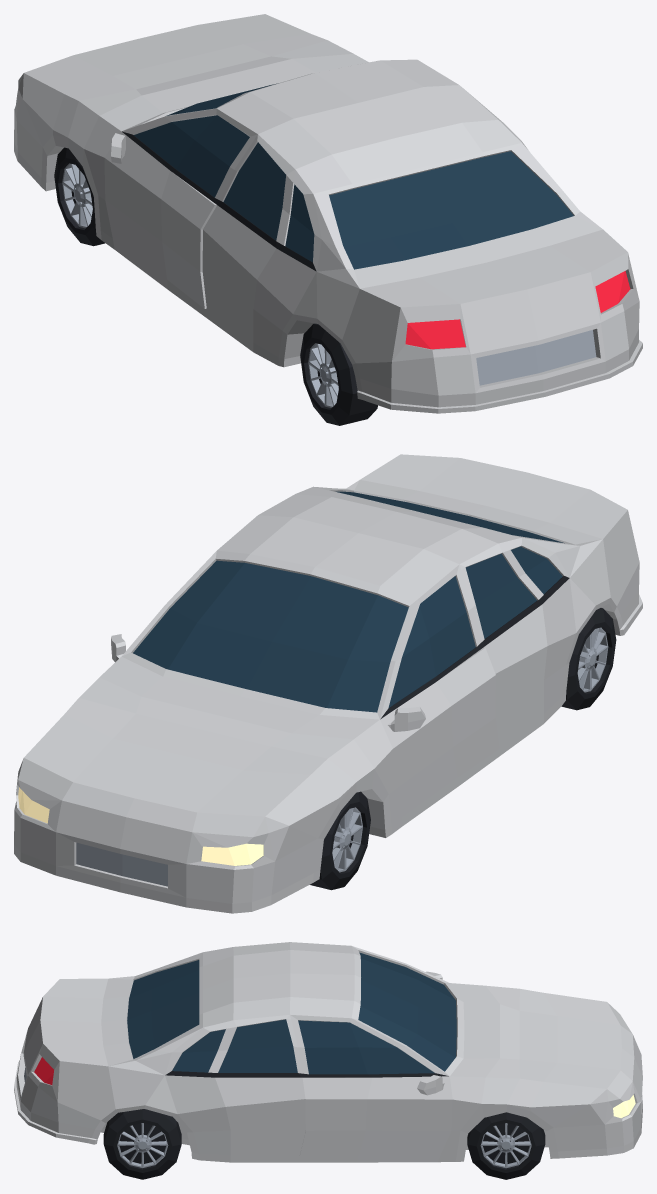
Rendered from sedan.glb.
3 views of the same model, one above another, from view 1: azimuth 30°, elevation 25°; view 2: azimuth 150°, elevation 25°; view 3: azimuth 270°, elevation 25° (orthographic). The views are drawn at different scales.
Visible parts, largest first — view 1: NormalCar1_Cube.012 (×5), NormalCar1_BackWheels_Cube.011 (×2), NormalCar1_FrontLeftWheel_Cube.007 (×2); view 2: NormalCar1_Cube.012 (×5), NormalCar1_BackWheels_Cube.011 (×2), NormalCar1_FrontLeftWheel_Cube.007 (×2); view 3: NormalCar1_Cube.012 (×3), NormalCar1_BackWheels_Cube.011 (×2), NormalCar1_FrontRightWheel_Cube.008 (×2).
Part boxes in pixels (x1=…): NormalCar1_Cube.012 (×5): x1=14, y1=14, x2=642, y2=413; NormalCar1_BackWheels_Cube.011 (×2): x1=300, y1=323, x2=377, y2=425; NormalCar1_FrontLeftWheel_Cube.007 (×2): x1=54, y1=147, x2=104, y2=246; NormalCar1_Cube.012 (×5): x1=14, y1=454, x2=642, y2=913; NormalCar1_BackWheels_Cube.011 (×2): x1=561, y1=608, x2=616, y2=710; NormalCar1_FrontLeftWheel_Cube.007 (×2): x1=310, y1=791, x2=370, y2=890; NormalCar1_Cube.012 (×3): x1=14, y1=942, x2=642, y2=1162; NormalCar1_BackWheels_Cube.011 (×2): x1=103, y1=1109, x2=181, y2=1179; NormalCar1_FrontRightWheel_Cube.008 (×2): x1=467, y1=1112, x2=545, y2=1179.
Size of the model in its own units: 1.97 by 1.28 by 4.6.
